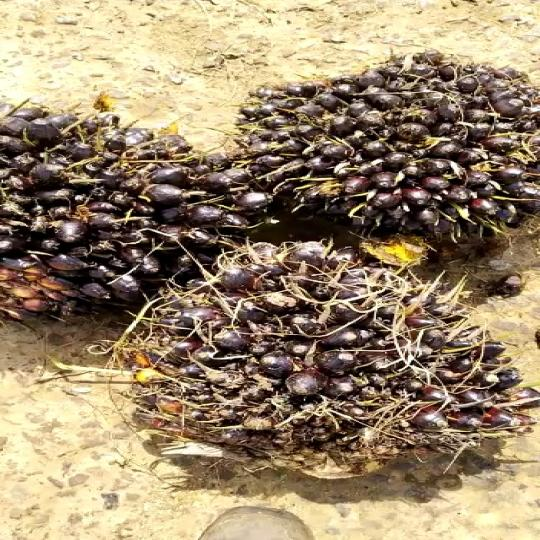mentah: (96, 230, 540, 506), (215, 42, 540, 257), (0, 91, 268, 319)
